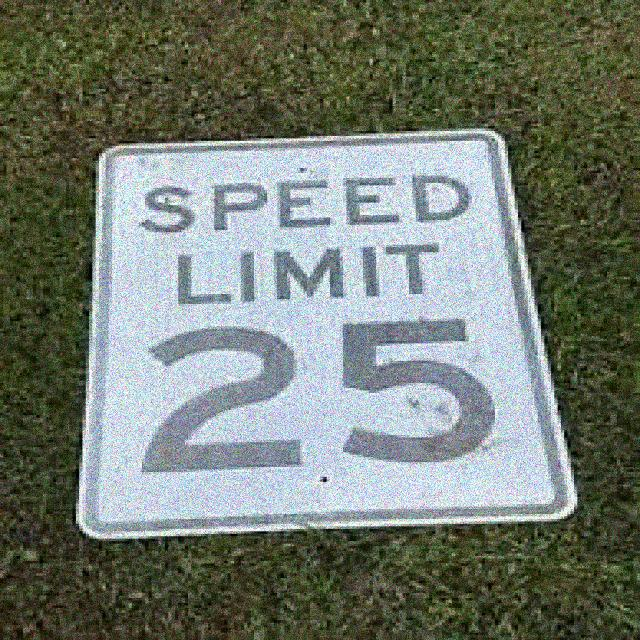speedLimit25: (73, 129, 574, 551)
